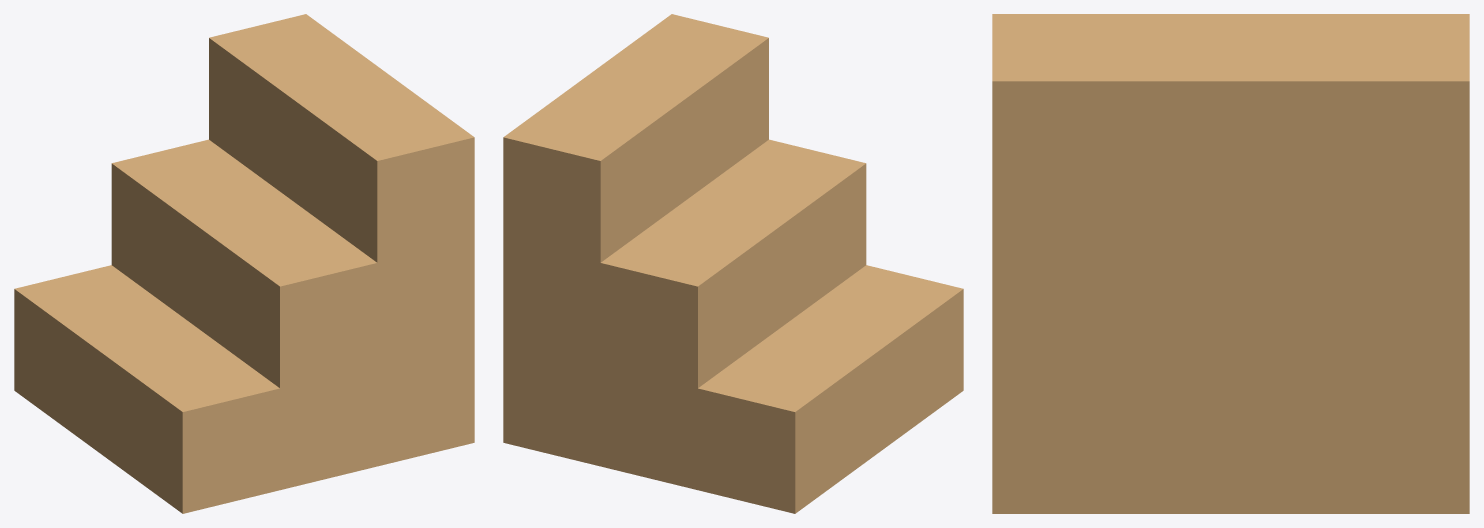
File: stair.fbx
The picture shows the model from 3 angles, left to right: view 1: azimuth 30°, elevation 25°; view 2: azimuth 150°, elevation 25°; view 3: azimuth 270°, elevation 25°; orthographic projection. The views are drawn at different scales.
Parts seen in each view (by area): view 1: Cube.002; view 2: Cube.002; view 3: Cube.002.
Boxes of the visible parts, bbox=[...] form: Cube.002: bbox=[14, 14, 474, 513]; Cube.002: bbox=[503, 14, 963, 513]; Cube.002: bbox=[992, 14, 1469, 513].
Size of the model in its own units: 1 by 1 by 1.
